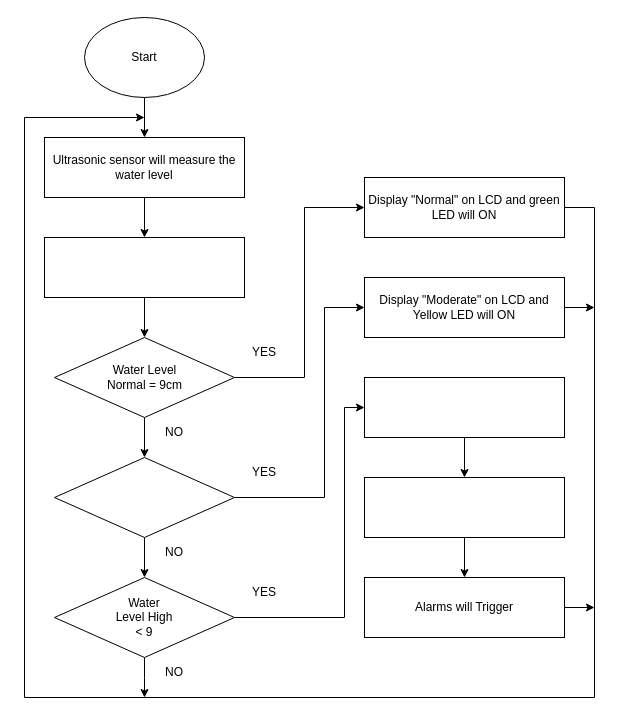
Some shapes in this 620 by 723 pixel diagram are drawn without their labels. The centre of each missing label's shape, as x and y in pixels:
Analyzed data and update to Web server: point (144, 267)
Display "EVACUATION!!" on LCD and Red LED will ON: point (464, 407)
Gate will open for excessive for overflow water: point (464, 507)
Water Level > 9 Moderate = 13cm: point (144, 497)
